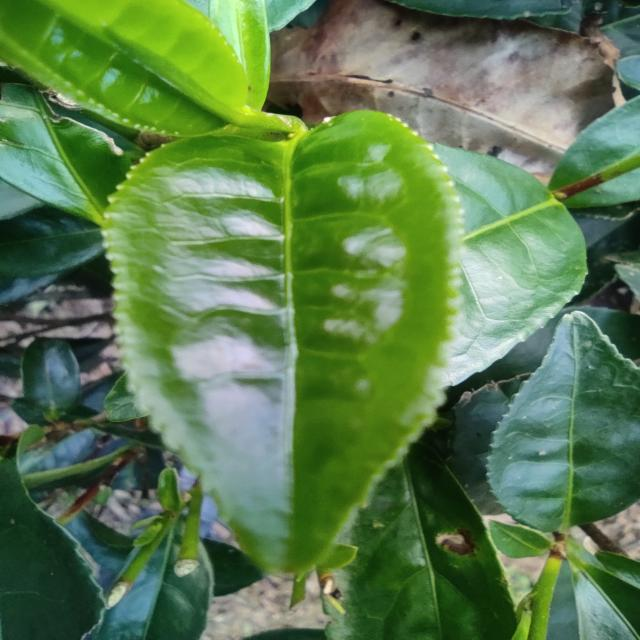Category C(4-7 days): (60, 67, 506, 580)
